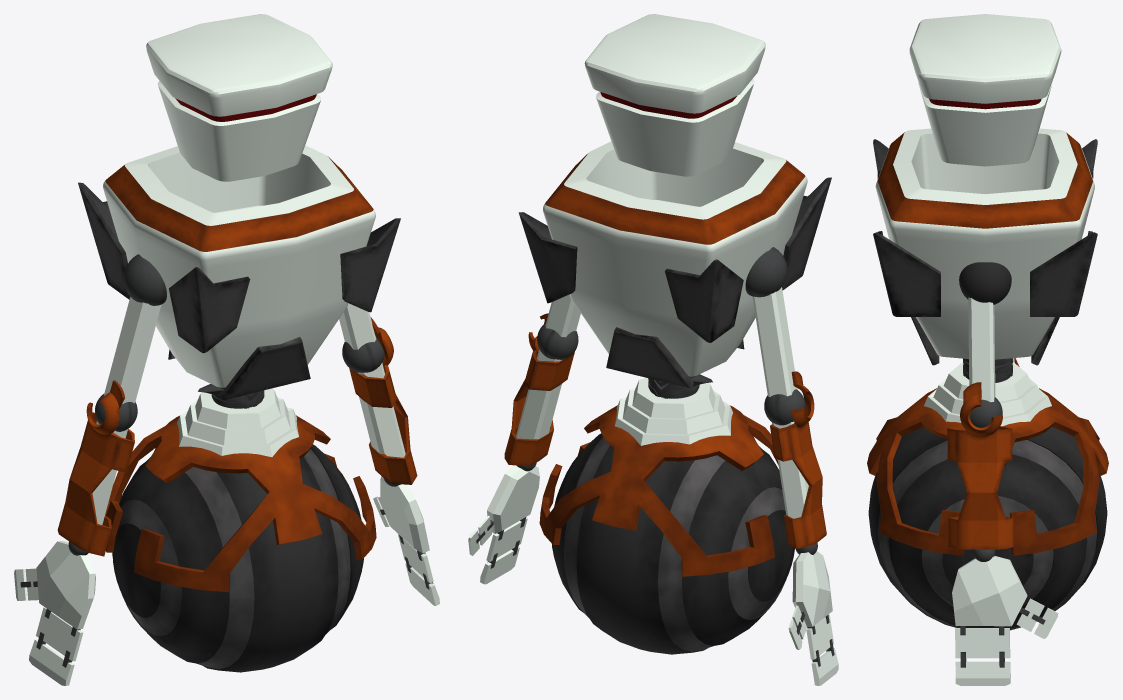
File: AndroSphereSpawn.fbx
3 views of the same model, side by side, from view 1: azimuth 30°, elevation 25°; view 2: azimuth 150°, elevation 25°; view 3: azimuth 270°, elevation 25° (orthographic). The views are drawn at different scales.
Parts seen in each view (by area): view 1: AndroSpherFullMesh; view 2: AndroSpherFullMesh; view 3: AndroSpherFullMesh.
Part boxes in pixels (box(x1,y1,x2,y2)): AndroSpherFullMesh: box(14, 14, 439, 685); AndroSpherFullMesh: box(468, 14, 838, 685); AndroSpherFullMesh: box(867, 14, 1108, 685).
Size of the model in its own units: 288 by 457 by 174.
